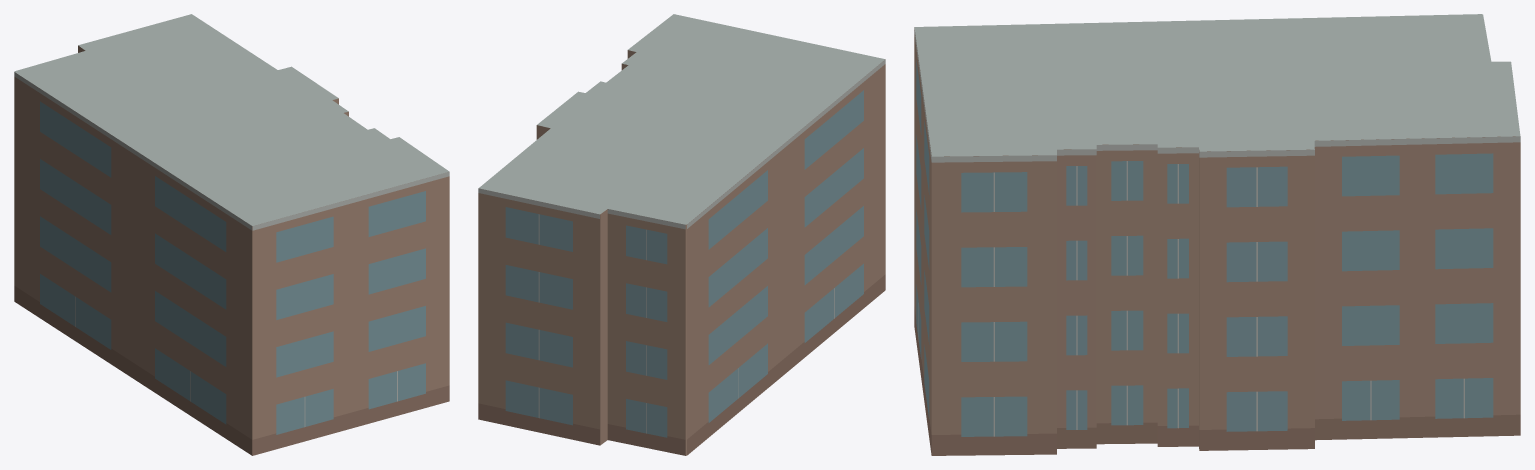
The model's file is survey-upis-32701680.glb.
3 renders of one model, left to right at view 1: azimuth 30°, elevation 25°; view 2: azimuth 150°, elevation 25°; view 3: azimuth 270°, elevation 25°, orthographic. The views are drawn at different scales.
Parts seen in each view (by area): view 1: survey-upis-32701680.tmp; view 2: survey-upis-32701680.tmp; view 3: survey-upis-32701680.tmp.
Boxes of the visible parts, x1,y1,x2,y2 form: survey-upis-32701680.tmp: (14,14,449,455); survey-upis-32701680.tmp: (478,14,885,455); survey-upis-32701680.tmp: (914,14,1520,455).
Bounding box in the file's own units: 12.37 × 12.1 × 22.22.
